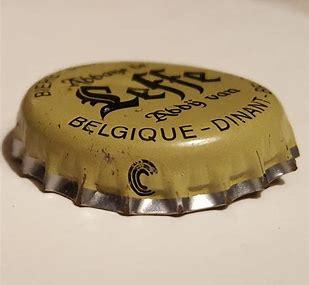metal: (12, 62, 300, 216)
